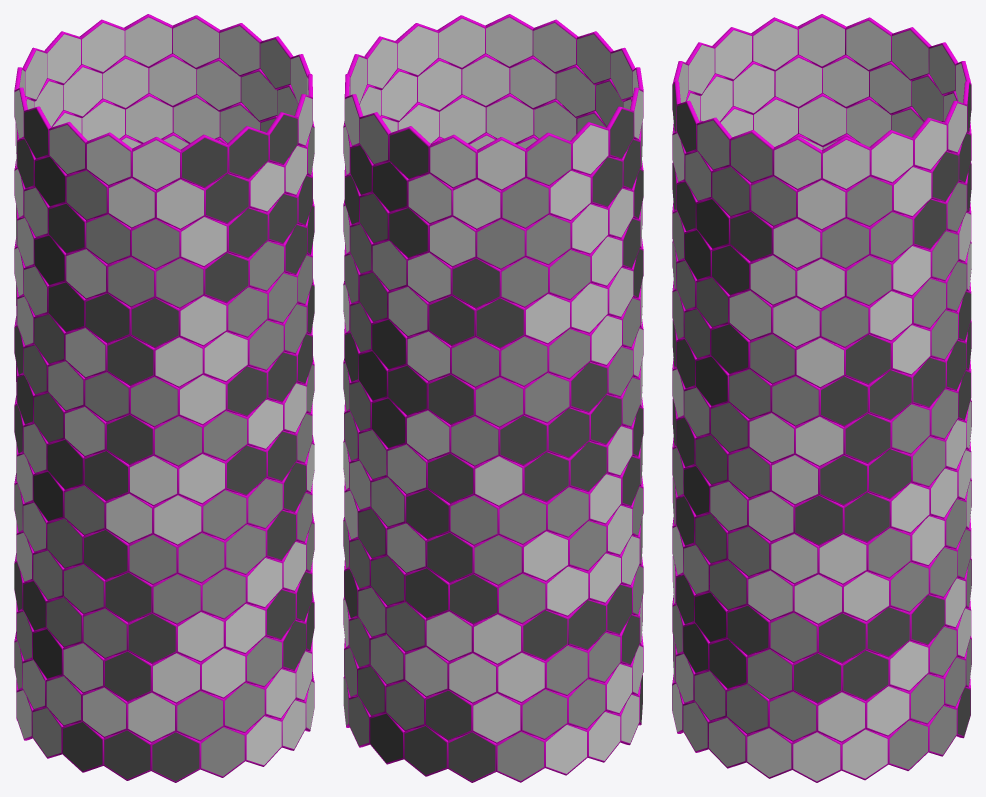
The model's file is Map Center.fbx.
3 renders of one model, left to right at view 1: azimuth 30°, elevation 25°; view 2: azimuth 150°, elevation 25°; view 3: azimuth 270°, elevation 25°, orthographic.
Visible parts, largest first — view 1: MapCenter; view 2: MapCenter; view 3: MapCenter.
Part boxes in pixels (bbox=[...]): MapCenter: bbox=[14, 14, 314, 782]; MapCenter: bbox=[343, 14, 643, 782]; MapCenter: bbox=[672, 14, 971, 782].
Size of the model in its own units: 1025 by 2426 by 1023.
